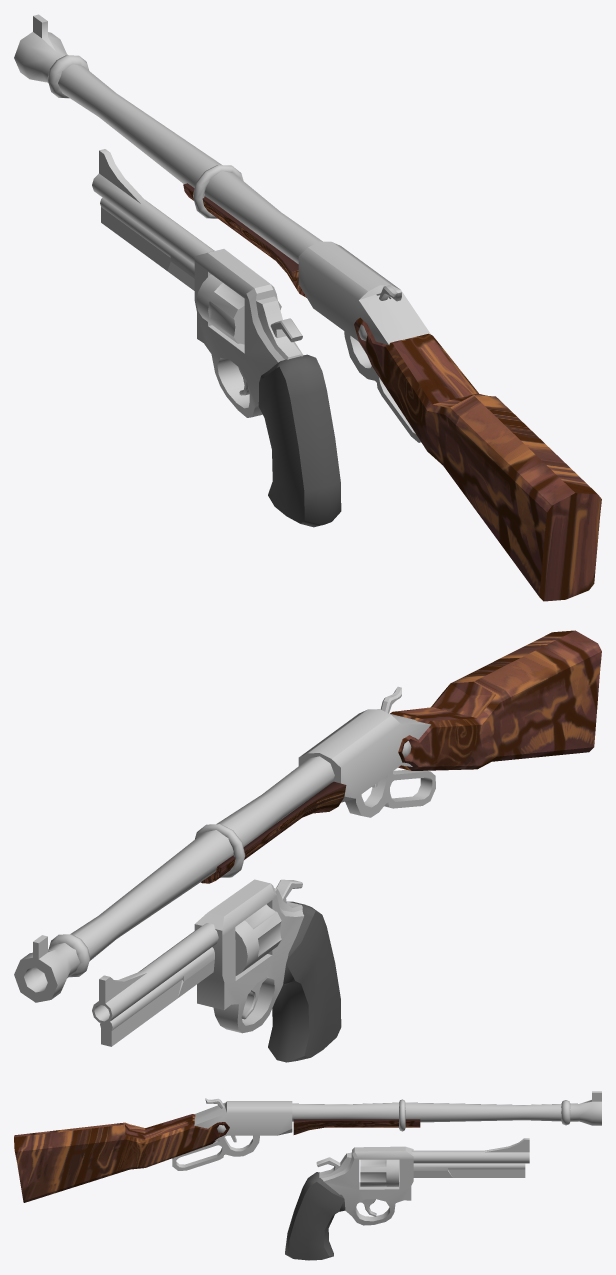
Rendered from guns.fbx.
The picture shows the model from 3 angles, top to bottom: view 1: azimuth 30°, elevation 25°; view 2: azimuth 150°, elevation 25°; view 3: azimuth 270°, elevation 25°; orthographic projection. The views are drawn at different scales.
Visible parts, largest first — view 1: Cube_1_2, Cylinder_2_2, Cube_1, Cube, Cube_2_3, Cylinder, Cylinder_1, Cylinder_2, Tube_2, Tube, Torus; view 2: Cube_1_2, Cylinder_2_2, Cube, Cube_1, Cube_2_3, Cylinder, Cylinder_1, Cylinder_2, Tube, Tube_2, Torus, Torus_2; view 3: Cube_1_2, Cylinder_2_2, Cube, Cube_1, Cube_2_3, Cylinder, Cylinder_1, Tube_2, Cylinder_2, Tube.
Boxes of the visible parts, x1,y1,x2,y2 form: Cube_1_2: (354,317,601,601); Cylinder_2_2: (14,14,322,263); Cube_1: (258,354,341,527); Cube: (194,249,302,417); Cube_2_3: (298,241,430,353); Cylinder: (92,149,214,264); Cylinder_1: (100,197,194,290); Cylinder_2: (196,274,281,344); Tube_2: (183,183,306,297); Tube: (344,331,421,442); Torus: (193,165,243,218); Cube_1_2: (390,630,601,770); Cylinder_2_2: (14,756,334,1002); Cube: (194,879,303,1033); Cube_1: (268,901,341,1062); Cube_2_3: (298,686,430,802); Cylinder: (92,923,218,1023); Cylinder_1: (100,947,214,1046); Cylinder_2: (235,904,281,975); Tube: (345,769,435,817); Tube_2: (201,781,346,883); Torus: (195,824,245,877); Torus_2: (49,934,90,977); Cube_1_2: (14,1114,229,1202); Cylinder_2_2: (292,1091,601,1125); Cube: (319,1146,413,1225); Cube_1: (285,1172,345,1260); Cube_2_3: (194,1098,292,1140); Cylinder: (411,1138,529,1163); Cylinder_1: (413,1163,525,1177); Tube_2: (293,1119,420,1134); Cylinder_2: (360,1159,398,1186); Tube: (172,1135,259,1170).
Bounding box in the file's own units: 42.79 × 228 × 728.
Materials: 3 (1 with a texture image).
